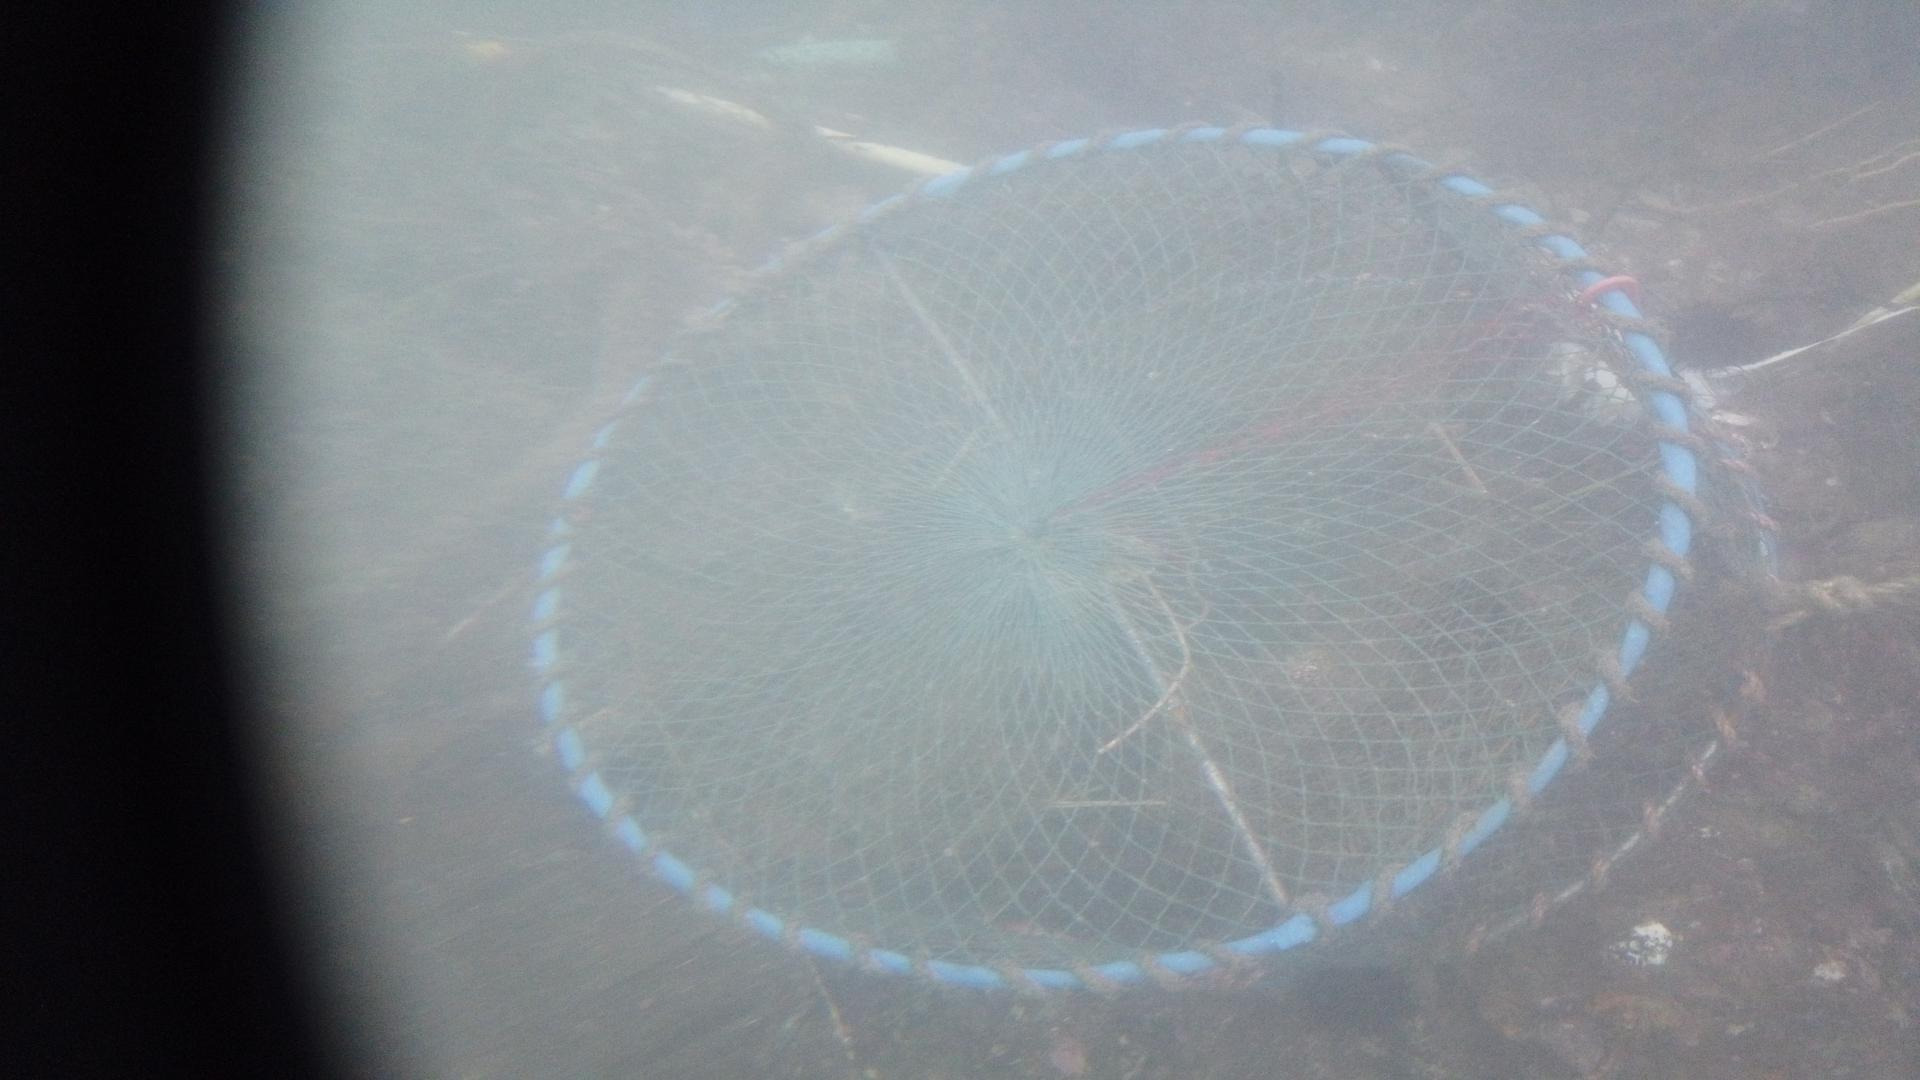bundle of ropes: (1764, 545, 1920, 633)
circular fish trap: (510, 117, 1795, 1004)
